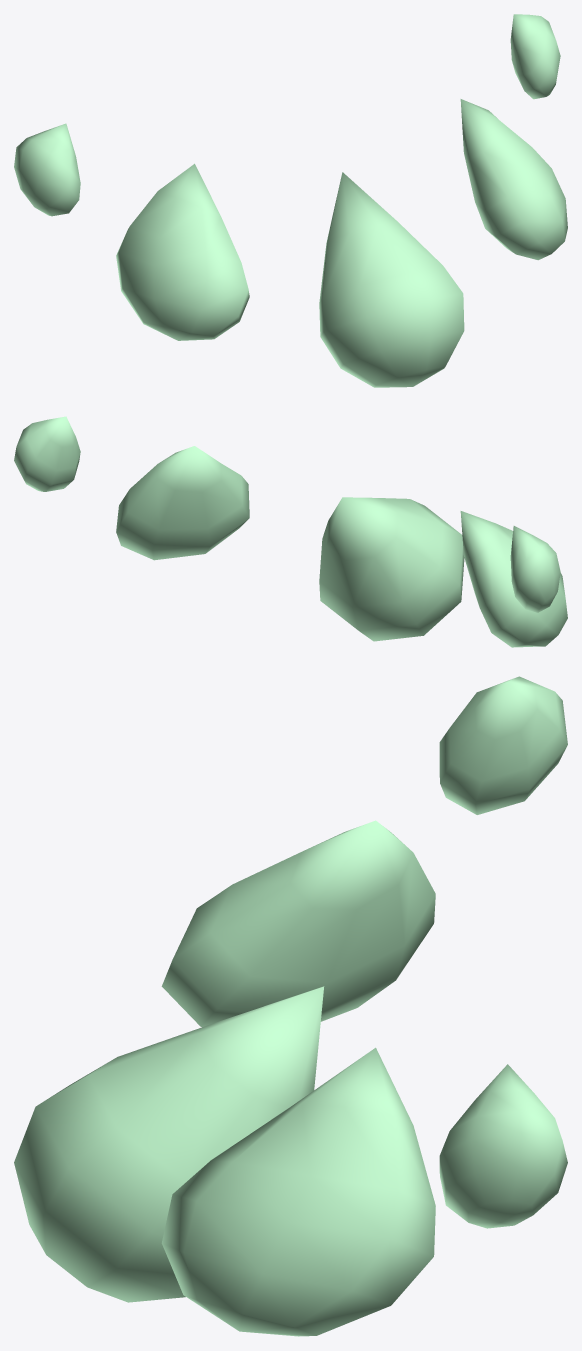
File: necklace1_1.fbx
3 renders of one model, top to bottom at view 1: azimuth 30°, elevation 25°; view 2: azimuth 150°, elevation 25°; view 3: azimuth 270°, elevation 25°, orthographic. The views are drawn at different scales.
Parts seen in each view (by area): view 1: necklace1_1; view 2: necklace1_1; view 3: necklace1_1.
Part boxes in pixels (bbox=[...]): necklace1_1: bbox=[14, 14, 567, 387]; necklace1_1: bbox=[14, 416, 567, 647]; necklace1_1: bbox=[14, 676, 567, 1336].
Bounding box in the file's own units: 54.08 × 23.14 × 27.74.
1 material, 1 textured.
